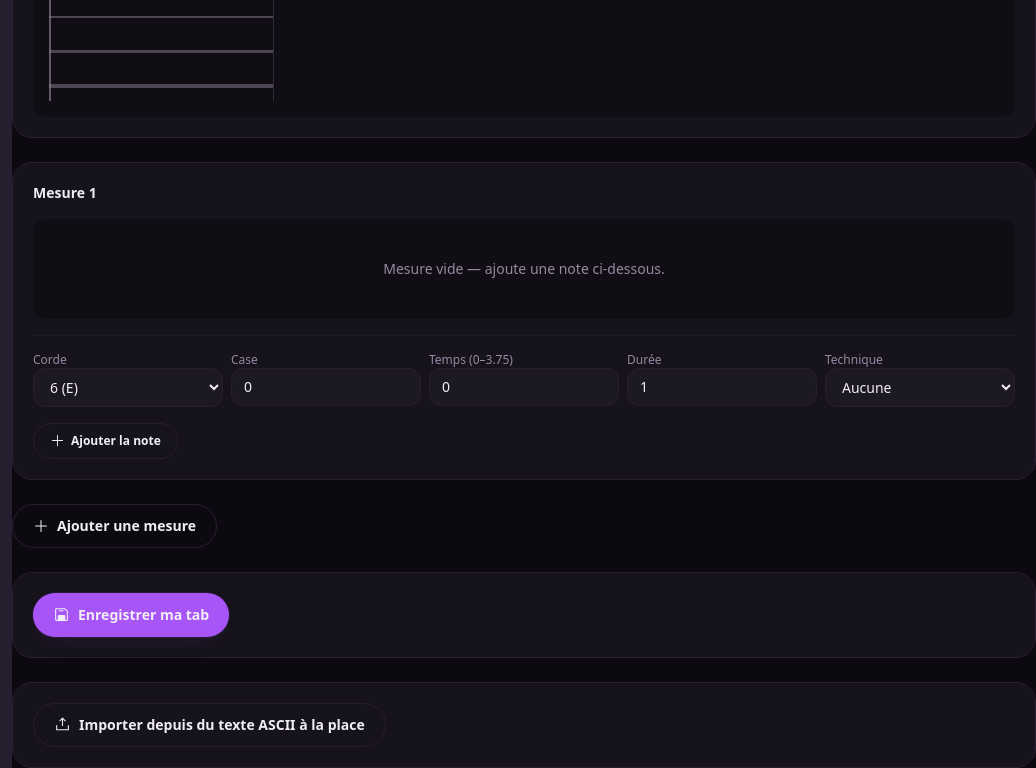
Test: TabCreatorPage › adding a measure renders a second measure card
(page scrolled)
Expected: the text "Mesure 1" is shown, [33,182,97,202]
Click the button "Ajouter une mesure": (114, 526) [12,504,217,548]
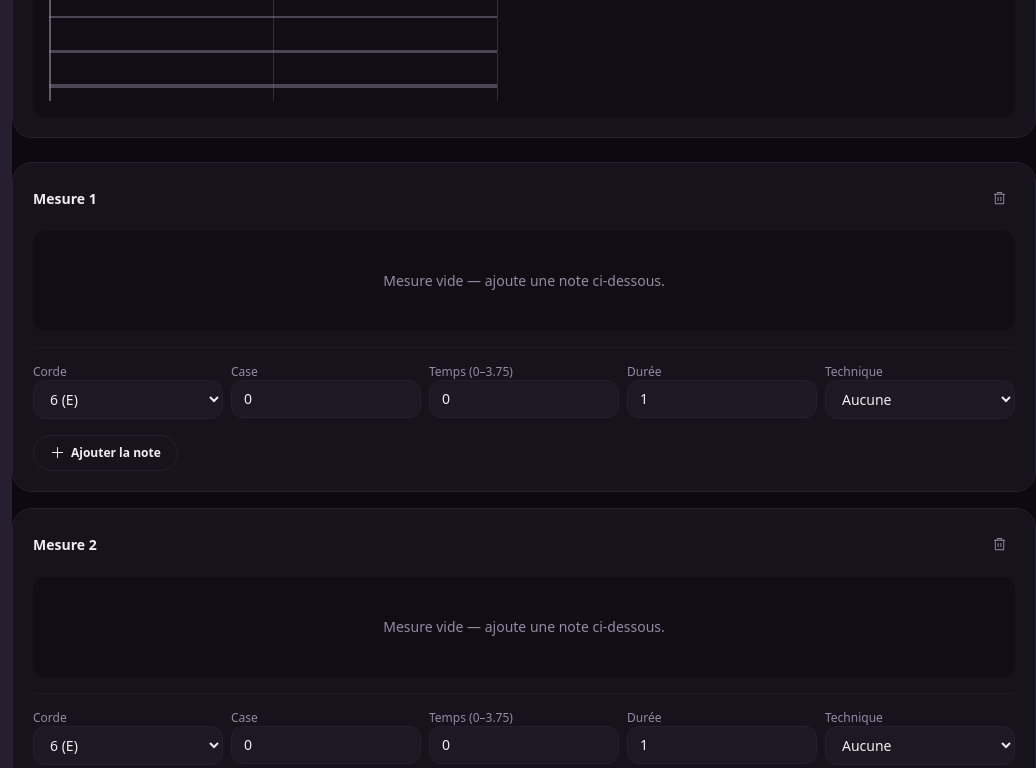
Result: the text "Mesure 2" is shown at [33,534,97,554]
